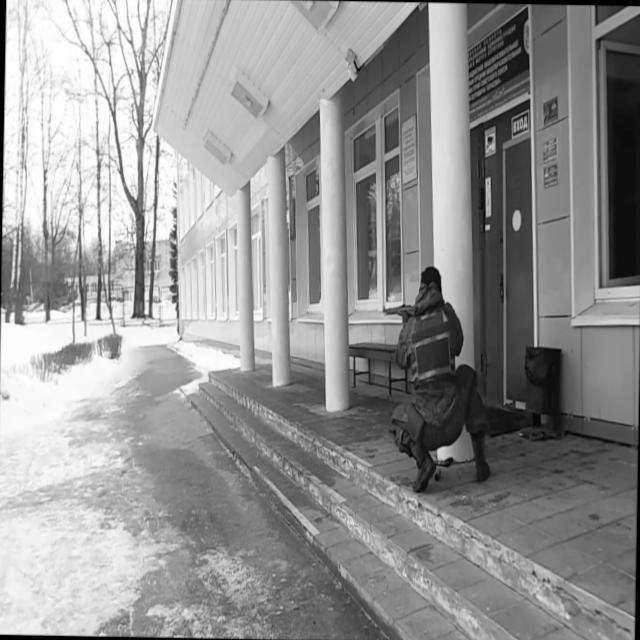gun: (381, 300, 416, 324)
person with a gun: (378, 262, 493, 495)
